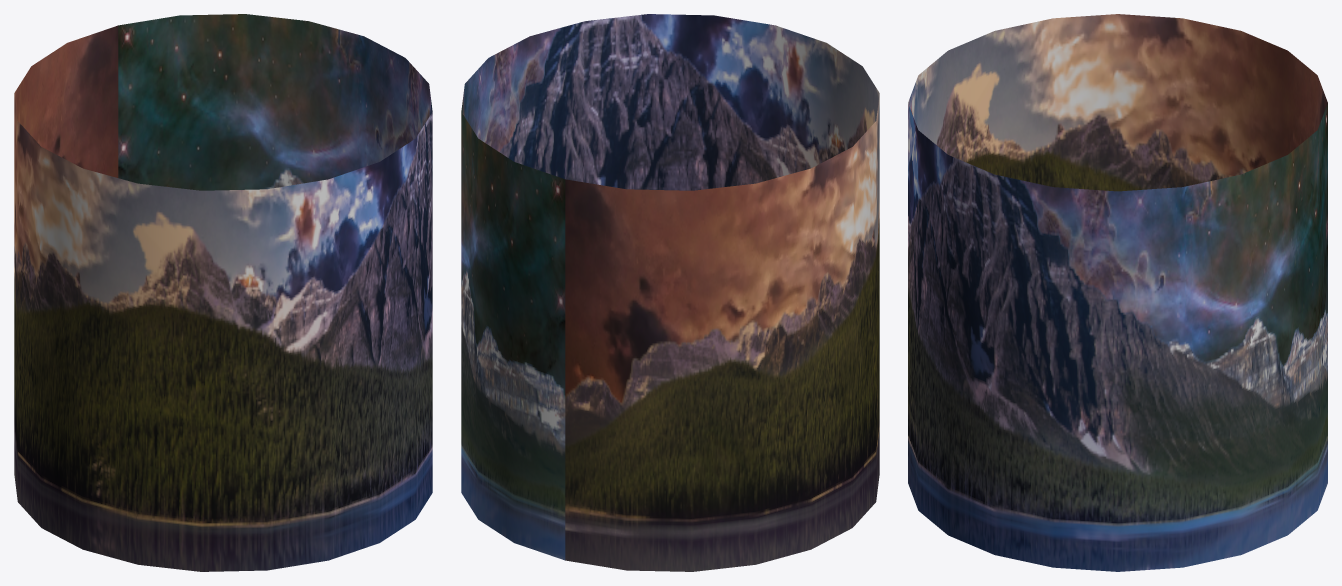
File: C_Panoramic1.fbx
3 renders of one model, left to right at view 1: azimuth 30°, elevation 25°; view 2: azimuth 150°, elevation 25°; view 3: azimuth 270°, elevation 25°, orthographic.
Visible parts, largest first — view 1: pCylinder1; view 2: pCylinder1; view 3: pCylinder1.
Boxes of the visible parts, x1,y1,x2,y2 form: pCylinder1: (14,14,432,571); pCylinder1: (461,14,879,571); pCylinder1: (908,14,1327,571).
Size of the model in its own units: 2 by 2 by 2.
1 material, 1 textured.
